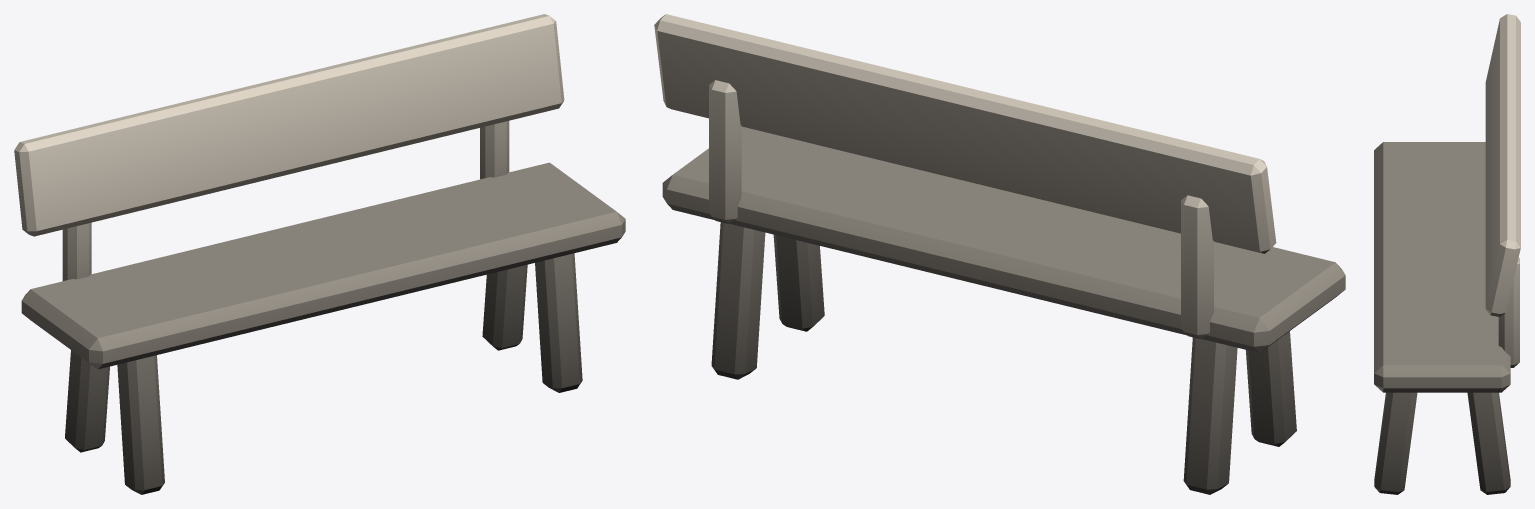
The model's file is SM_VK_Prop_Bench.fbx.
3 views of the same model, side by side, from view 1: azimuth 30°, elevation 25°; view 2: azimuth 150°, elevation 25°; view 3: azimuth 270°, elevation 25° (orthographic). The views are drawn at different scales.
Parts seen in each view (by area): view 1: SM_VK_Prop_Bench.001; view 2: SM_VK_Prop_Bench.001; view 3: SM_VK_Prop_Bench.001.
Boxes of the visible parts, bbox=[...] form: SM_VK_Prop_Bench.001: bbox=[14, 14, 625, 494]; SM_VK_Prop_Bench.001: bbox=[654, 14, 1345, 494]; SM_VK_Prop_Bench.001: bbox=[1374, 14, 1520, 494].
Size of the model in its own units: 1.8 by 0.9972 by 0.4831.
